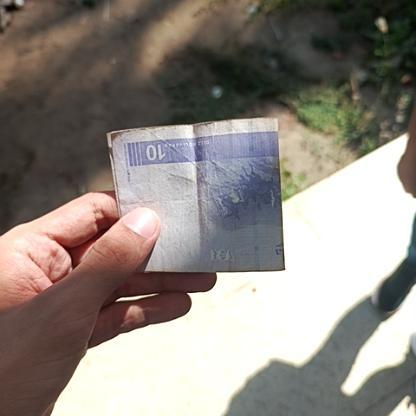ten-back-vef: (106, 113, 286, 277)
